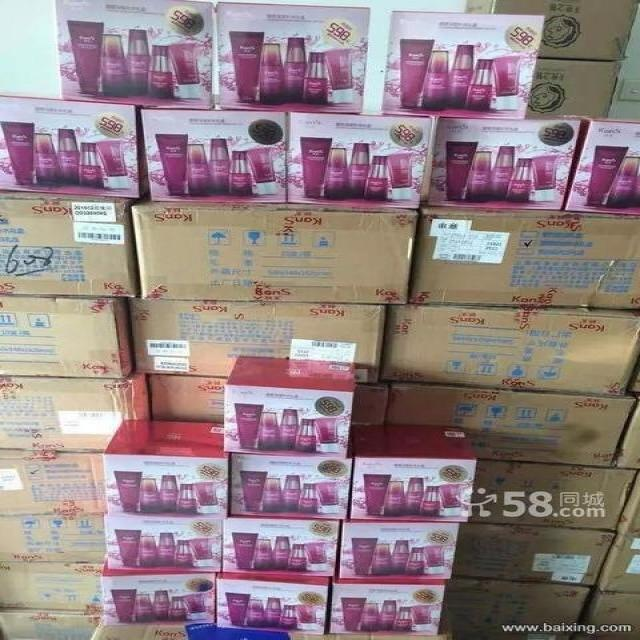box: (132, 198, 419, 305), (409, 205, 640, 310), (381, 305, 640, 398), (129, 299, 385, 383), (387, 383, 635, 468), (380, 7, 545, 120), (55, 0, 213, 110), (219, 1, 371, 113), (425, 113, 579, 210), (0, 191, 140, 297), (288, 111, 435, 209), (0, 94, 137, 198), (140, 110, 288, 203), (224, 356, 355, 461), (101, 416, 229, 520), (0, 370, 153, 452), (351, 427, 477, 523), (471, 460, 637, 531), (0, 295, 135, 378), (463, 0, 640, 60), (455, 524, 615, 586), (448, 578, 593, 639), (231, 453, 353, 519), (564, 116, 640, 215), (223, 514, 340, 577), (101, 566, 217, 628), (339, 520, 460, 579), (215, 573, 331, 633), (0, 449, 107, 514), (331, 578, 447, 635), (103, 517, 223, 572), (528, 58, 625, 117), (0, 561, 103, 613), (0, 516, 105, 563), (147, 375, 227, 423), (572, 593, 640, 640), (0, 610, 99, 640), (596, 534, 640, 593), (91, 620, 187, 640), (615, 402, 640, 470), (351, 384, 389, 425), (617, 472, 640, 534), (291, 632, 369, 639), (371, 634, 437, 640)
